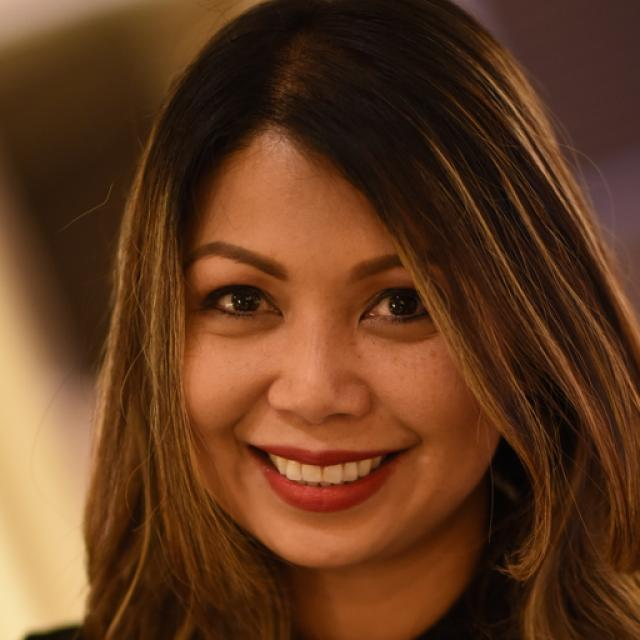Dark Circle: (358, 317, 437, 343), (215, 312, 283, 338)
